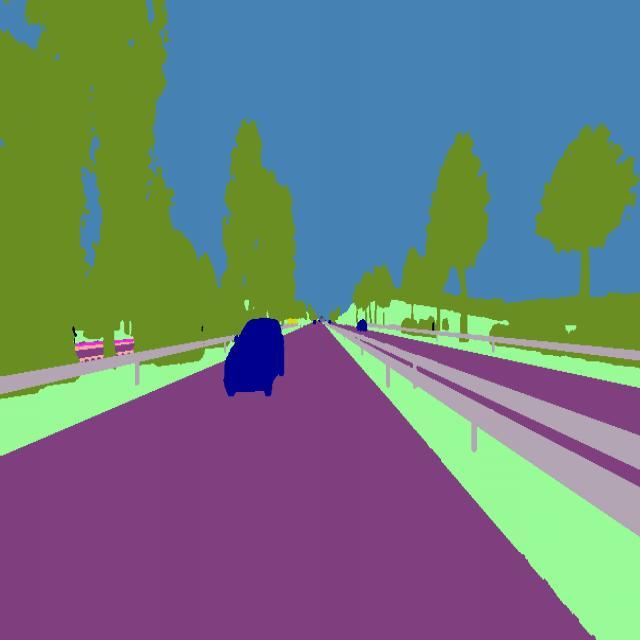safe: (222, 316, 286, 401), (354, 316, 371, 337)
